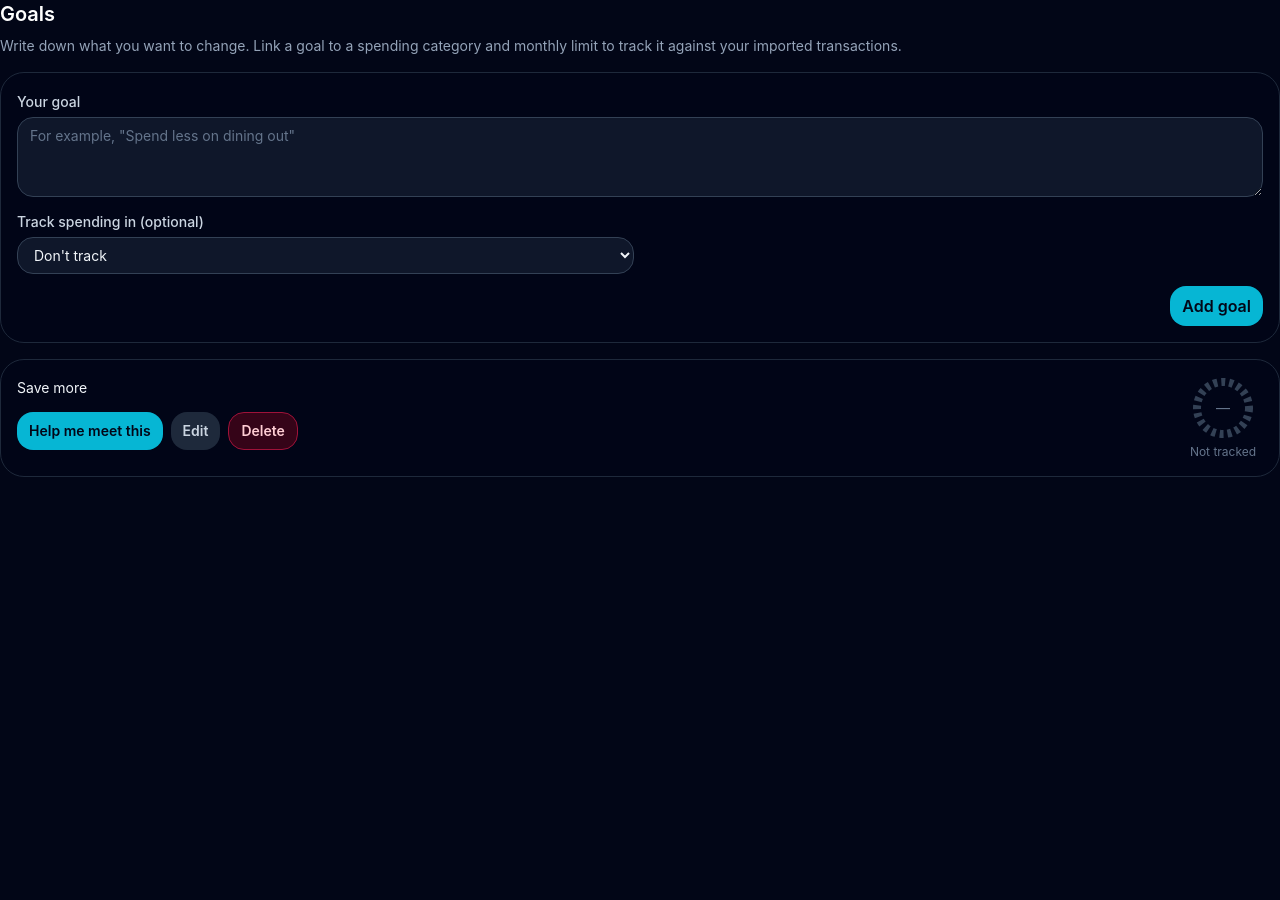
Test: GoalsTab › deletes a goal only after confirmation
This screenshot has width=1280, height=900.
Click the button with aria-label "Delete goal: Save more": {"x": 263, "y": 431} [228, 412, 298, 450]
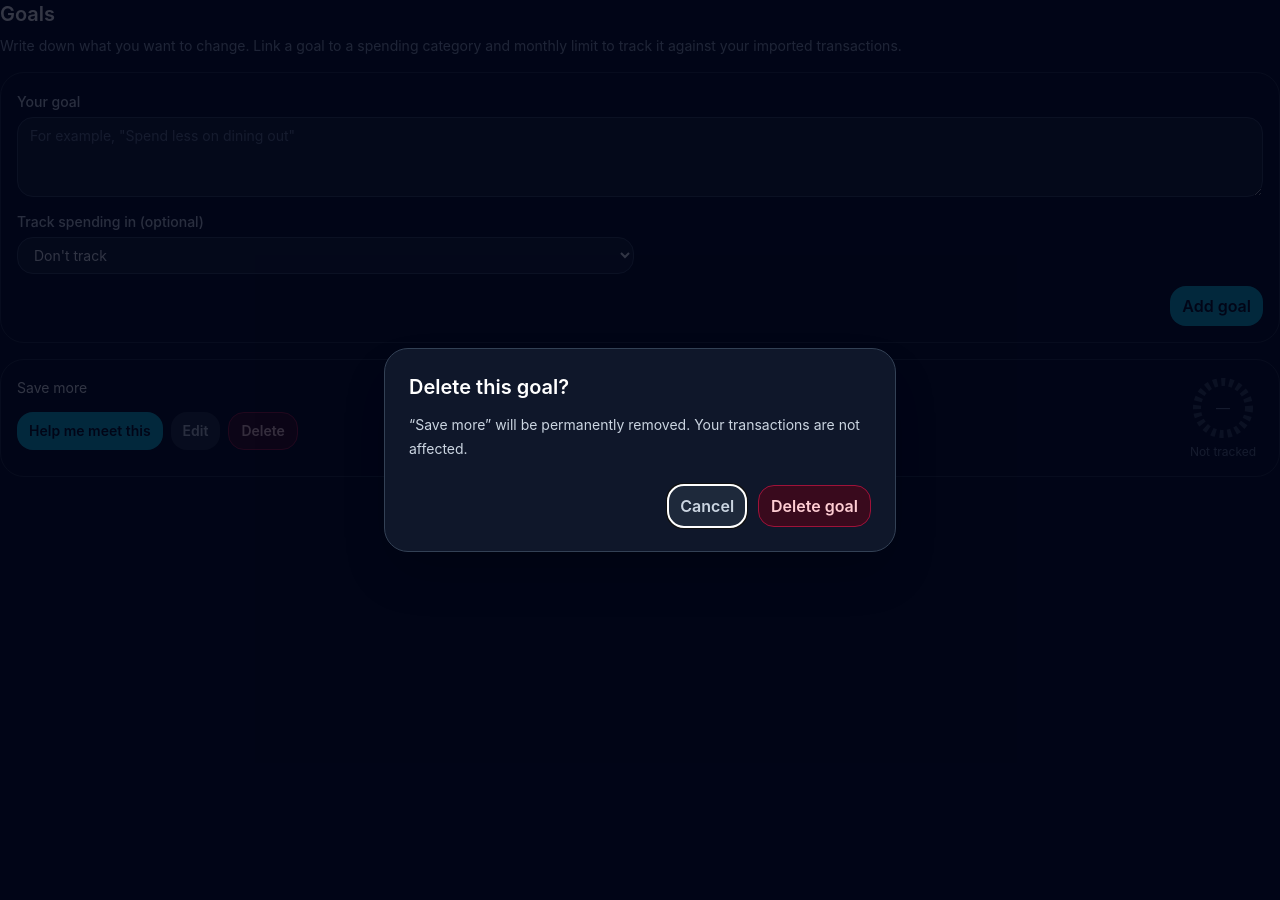
Now the dialog is shown, box [384, 348, 896, 552]
Click the button "Cancel": {"x": 707, "y": 506} [668, 485, 746, 527]
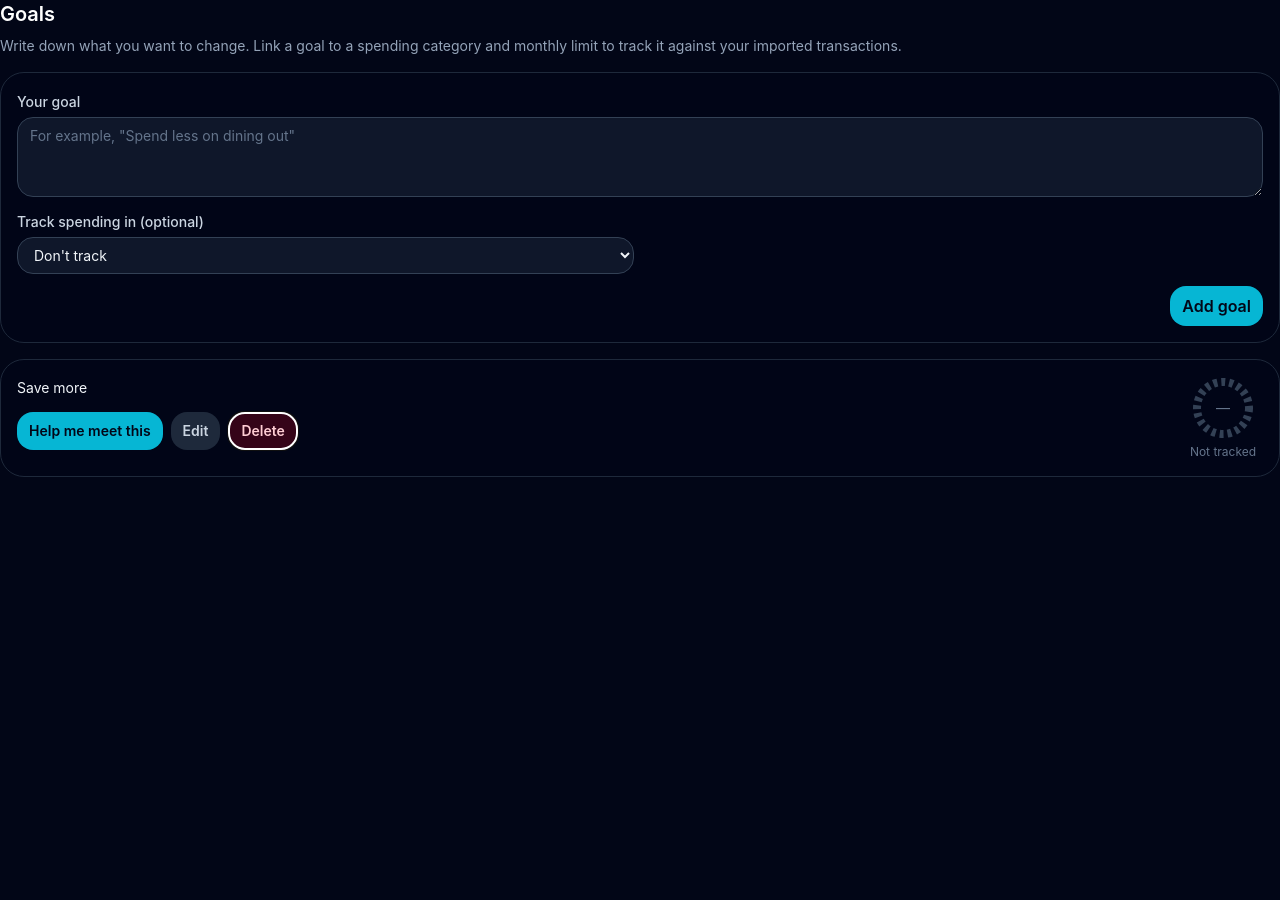
Click the button with aria-label "Delete goal: Save more": {"x": 263, "y": 431} [228, 412, 298, 450]
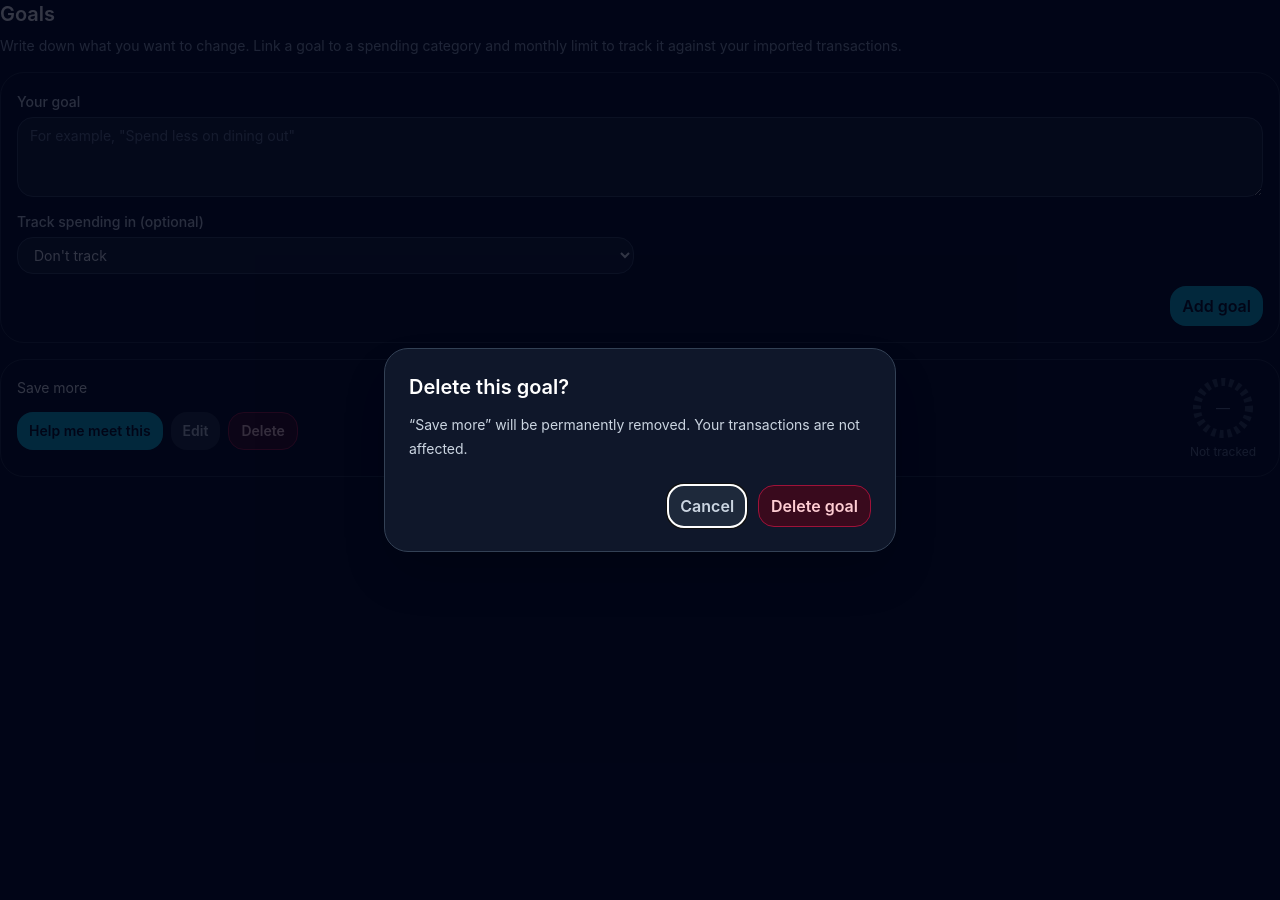
Click the button "Delete goal": {"x": 815, "y": 506} [758, 485, 871, 527]
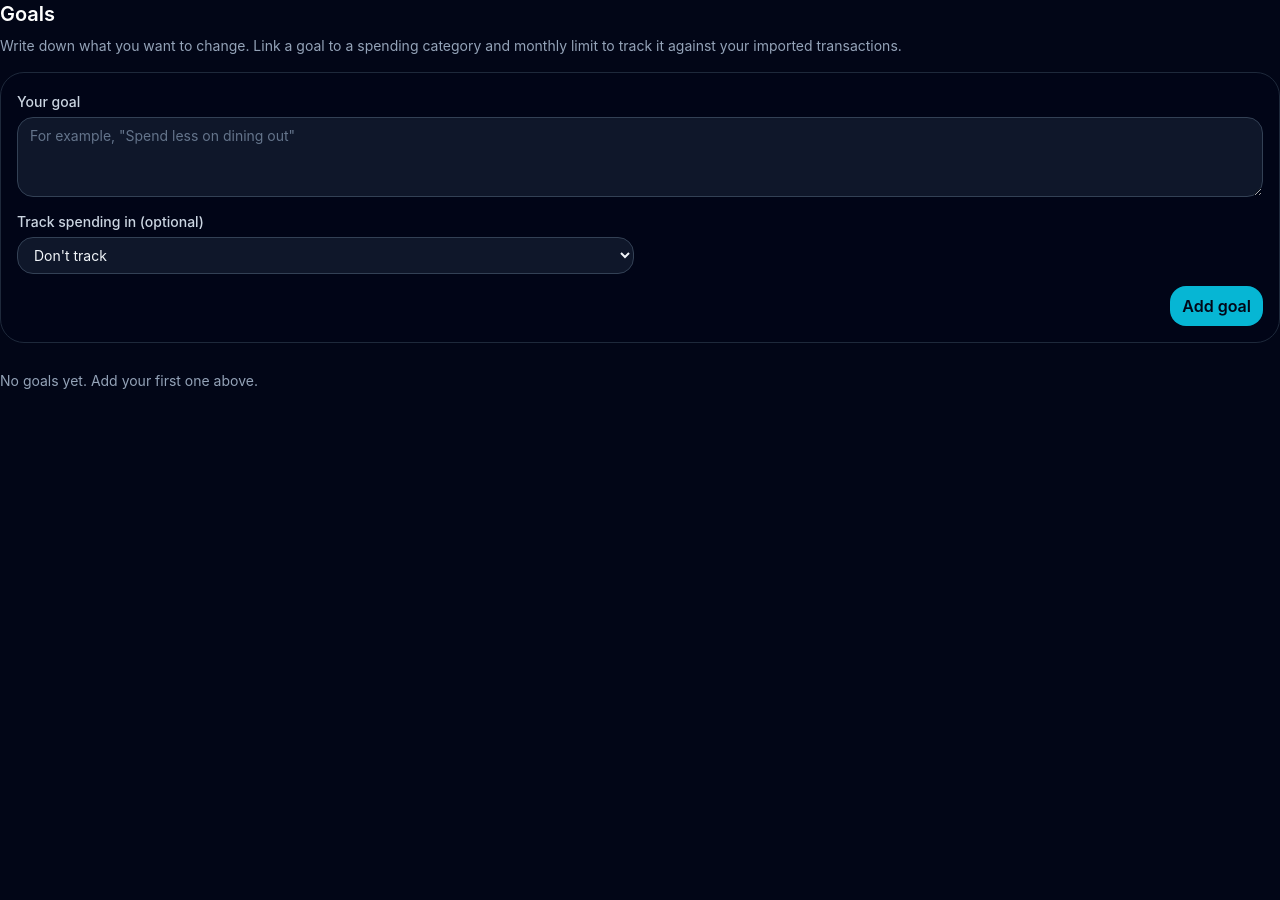
Now the text "No goals yet. Add your first one above." is shown, box [0, 372, 258, 389]
